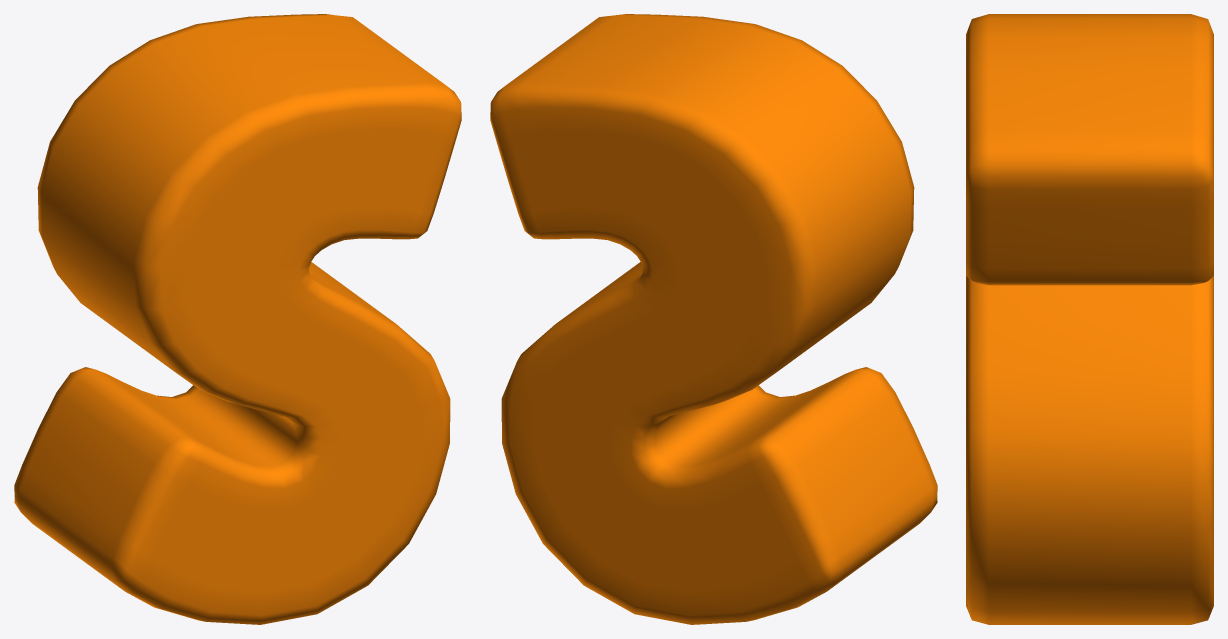
The picture shows the model from 3 angles, left to right: view 1: azimuth 30°, elevation 25°; view 2: azimuth 150°, elevation 25°; view 3: azimuth 270°, elevation 25°; orthographic projection. The views are drawn at different scales.
Visible parts, largest first — view 1: LETTER_S; view 2: LETTER_S; view 3: LETTER_S.
Boxes of the visible parts, x1,y1,x2,y2 form: LETTER_S: (14, 14, 461, 624); LETTER_S: (490, 14, 937, 624); LETTER_S: (966, 14, 1213, 624).
Size of the model in its own units: 0.6939 by 1 by 0.3944.
